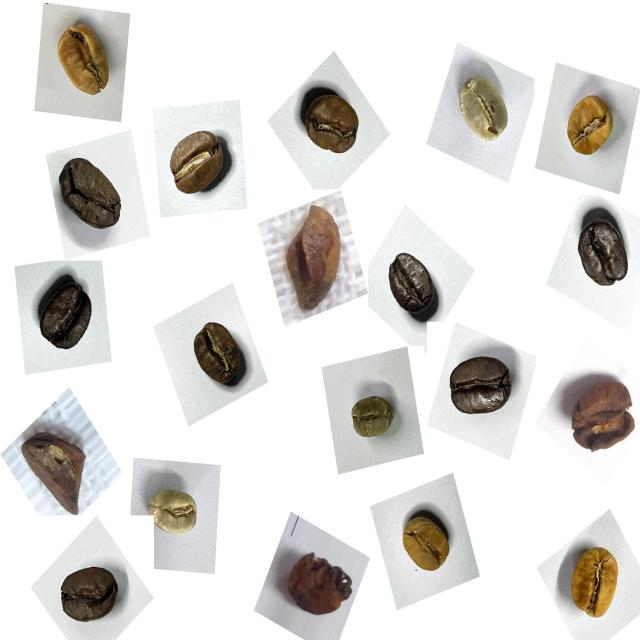bad: (15, 418, 98, 527), (272, 204, 348, 319), (554, 364, 637, 466), (277, 536, 361, 630)
dark: (49, 149, 132, 246), (439, 339, 522, 429), (293, 77, 372, 170), (30, 268, 103, 366), (562, 208, 635, 303), (179, 309, 253, 398), (49, 550, 126, 634), (379, 245, 446, 326)
green: (449, 62, 522, 154), (145, 470, 208, 547), (343, 384, 403, 451)
light: (46, 11, 120, 110), (556, 532, 632, 628), (550, 84, 622, 175), (388, 500, 461, 587)
medium: (159, 116, 241, 209)
